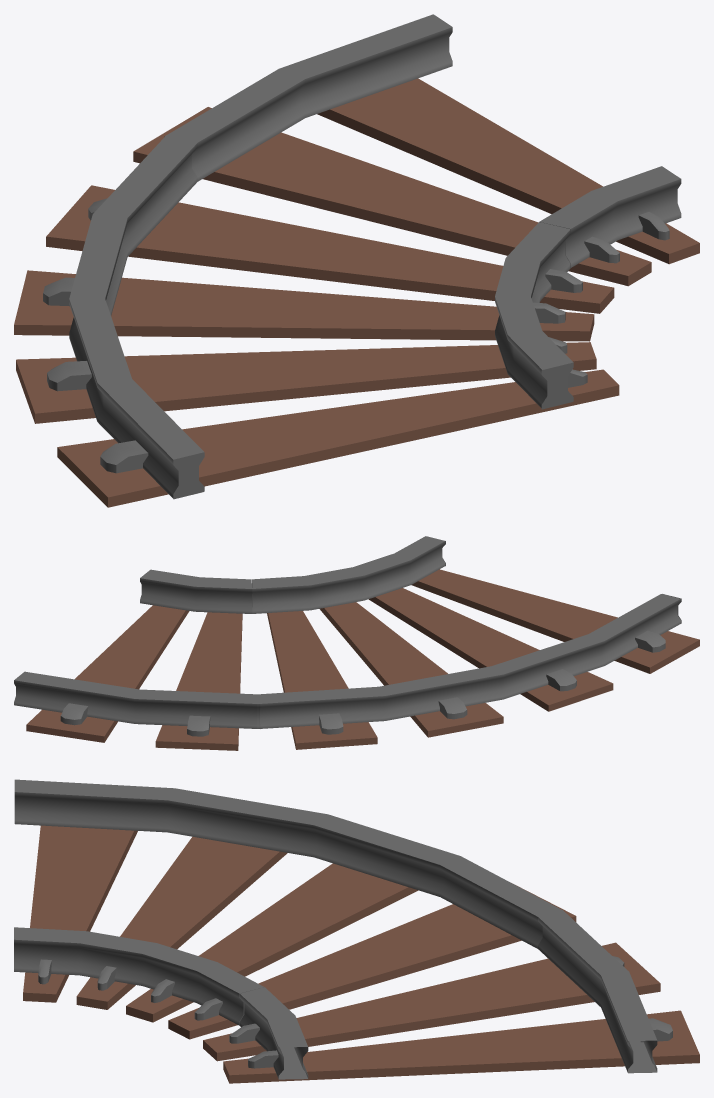
File: Trilho_curva_1.fbx
3 views of the same model, one above another, from view 1: azimuth 30°, elevation 25°; view 2: azimuth 150°, elevation 25°; view 3: azimuth 270°, elevation 25° (orthographic). The views are drawn at different scales.
Visible parts, largest first — view 1: trilho_L2; view 2: trilho_L2; view 3: trilho_L2.
Boxes of the visible parts, x1,y1,x2,y2 form: trilho_L2: [14, 14, 699, 507]; trilho_L2: [14, 536, 699, 750]; trilho_L2: [14, 779, 699, 1083].
Size of the model in its own units: 291 by 19.27 by 294.
